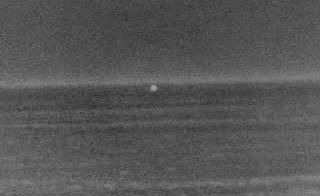dim target: (149, 85, 157, 91)
